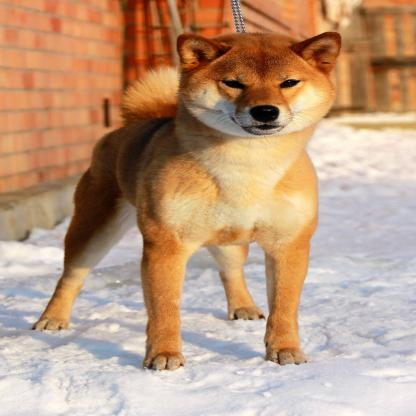Siba-ny: (33, 26, 348, 370)
